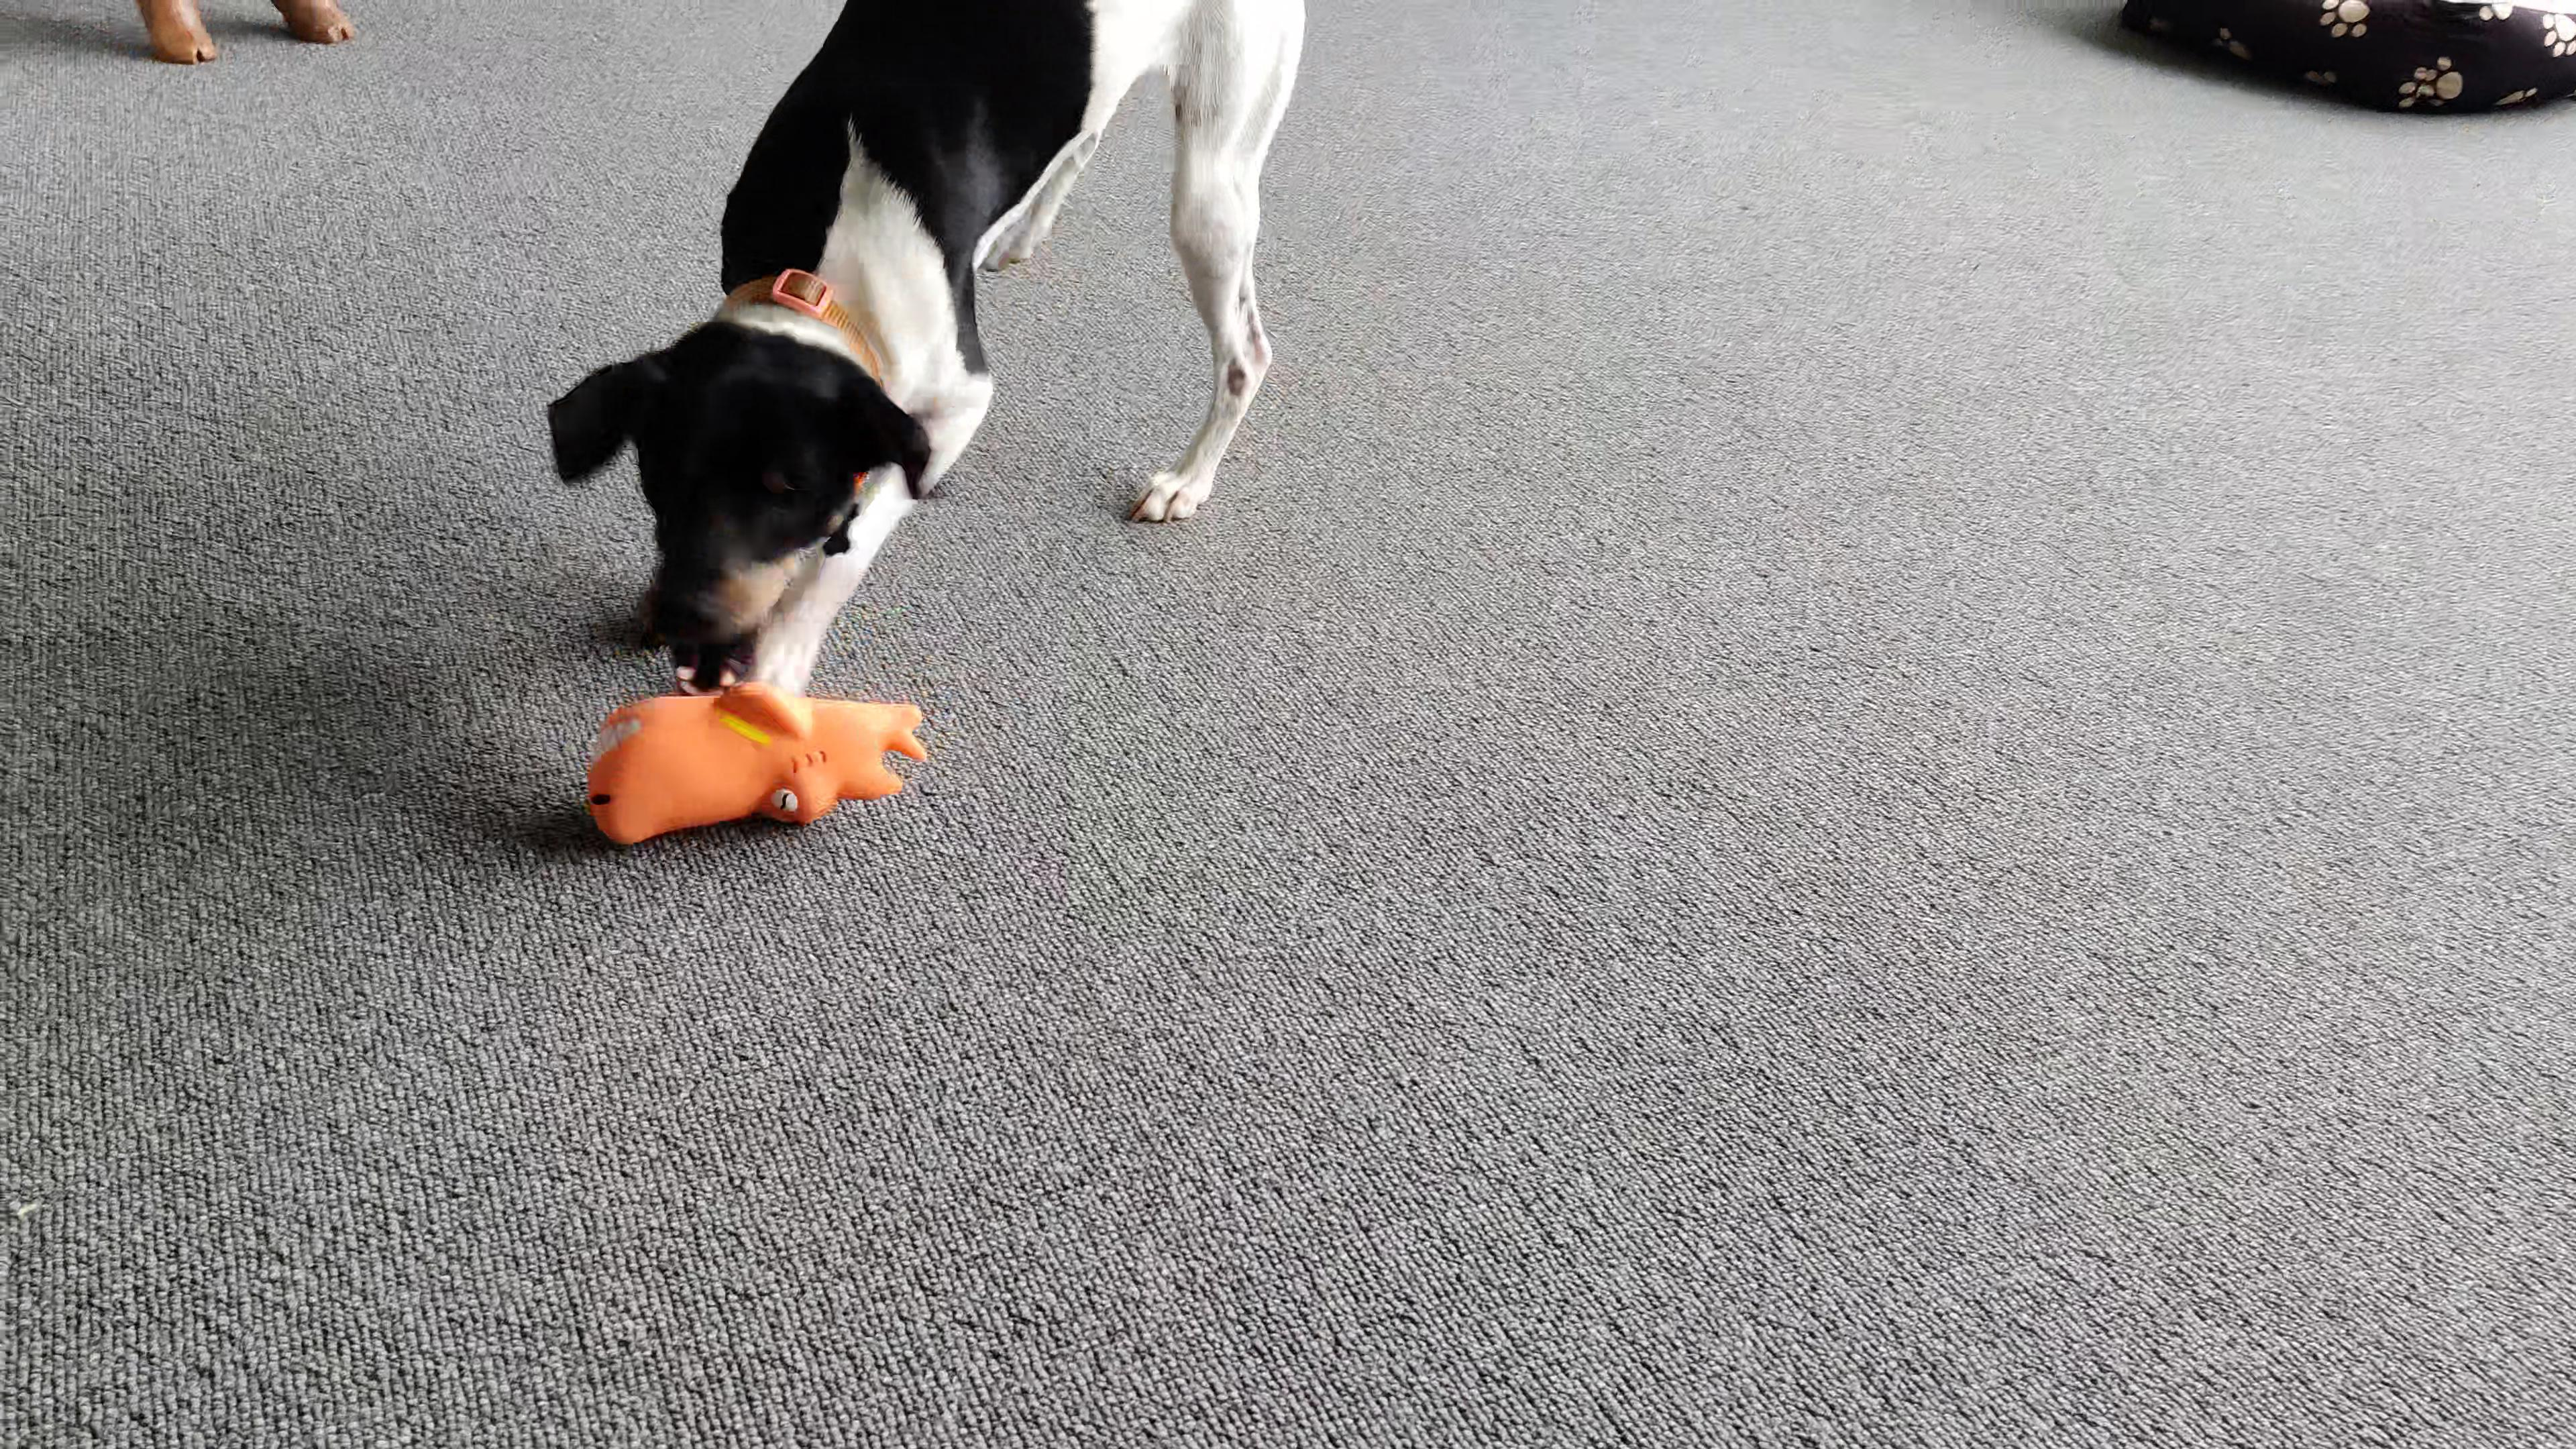Dog: (533, 0, 1316, 741)
